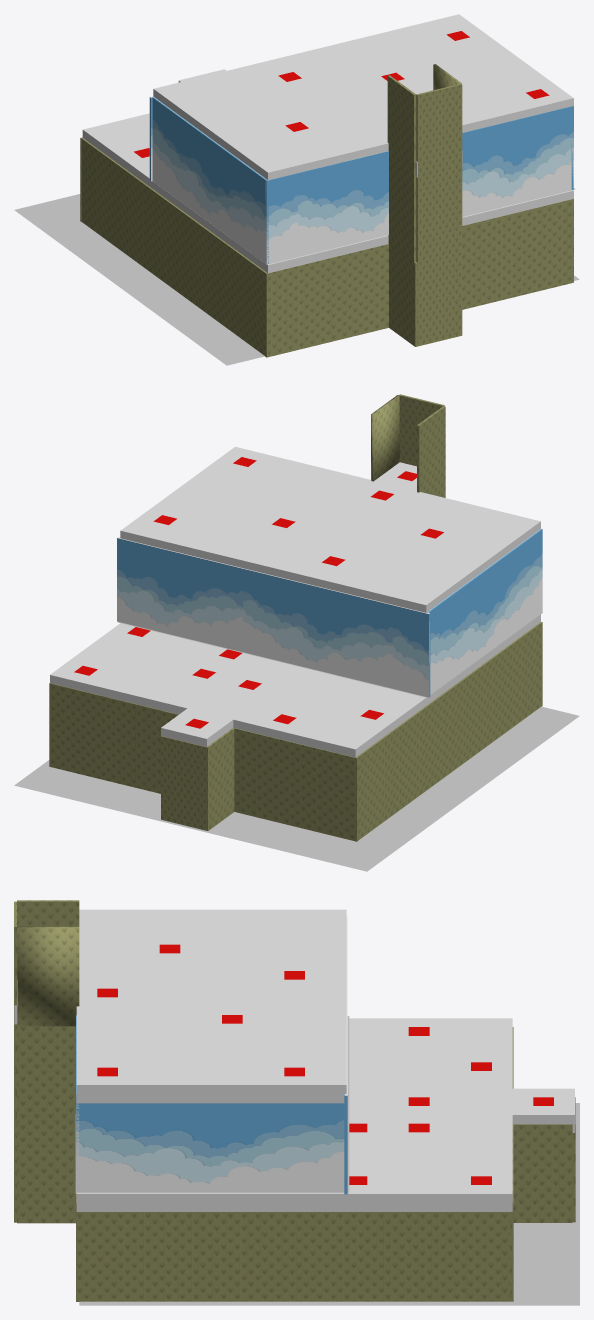
Rendered from labyrinthedecon - Copie.fbx.
3 renders of one model, top to bottom at view 1: azimuth 30°, elevation 25°; view 2: azimuth 150°, elevation 25°; view 3: azimuth 270°, elevation 25°, orthographic. The views are drawn at different scales.
Visible parts, largest first — view 1: Cube.013, Cube.016, Cube.060, Cube.014, Cube.017, Cube.061, Plane, Cube.030, Cube.027, Cube.063, Cube.029, Cube.062 (+1 smaller); view 2: Cube.019, Cube.013, Plane, Cube.035, Cube.014, Cube.040, Cube.038, Cube.034, Cube.029, Cube.031, Cube.030; view 3: Cube.044, Cube.018, Plane, Cube.031, Cube.039, Cube.064, Cube.026, Cube.029, Plane.001, Cube.019, toitcub.504, toitcub.583 (+20 smaller).
Part boxes in pixels (left/top/right/bottom): Cube.013: left=82, top=138, right=268, bottom=357; Cube.016: left=265, top=151, right=388, bottom=264; Cube.060: left=266, top=244, right=388, bottom=357; Cube.014: left=152, top=97, right=268, bottom=264; Cube.017: left=462, top=106, right=573, bottom=216; Cube.061: left=462, top=199, right=571, bottom=309; Plane: left=14, top=194, right=579, bottom=365; Cube.030: left=416, top=83, right=462, bottom=178; Cube.027: left=416, top=168, right=462, bottom=262; Cube.063: left=417, top=252, right=462, bottom=346; Cube.029: left=387, top=75, right=416, bottom=178; Cube.062: left=389, top=244, right=417, bottom=346; Cube.019: left=117, top=537, right=430, bottom=697; Cube.013: left=357, top=622, right=542, bottom=840; Plane: left=14, top=706, right=579, bottom=871; Cube.035: left=234, top=728, right=358, bottom=841; Cube.014: left=426, top=529, right=542, bottom=694; Cube.040: left=49, top=683, right=178, bottom=793; Cube.038: left=161, top=736, right=205, bottom=830; Cube.034: left=205, top=728, right=234, bottom=830; Cube.029: left=417, top=406, right=445, bottom=495; Cube.031: left=371, top=395, right=399, bottom=481; Cube.030: left=399, top=394, right=444, bottom=466; Cube.044: left=76, top=1202, right=510, bottom=1301; Cube.018: left=76, top=1094, right=344, bottom=1192; Plane: left=79, top=1103, right=579, bottom=1305; Cube.031: left=17, top=926, right=79, bottom=1026; Cube.039: left=513, top=1124, right=572, bottom=1222; Cube.064: left=17, top=1124, right=75, bottom=1223; Cube.026: left=17, top=1025, right=75, bottom=1124; Cube.029: left=17, top=900, right=79, bottom=979; Plane.001: left=75, top=1016, right=349, bottom=1193; Cube.019: left=344, top=916, right=347, bottom=1194; toitcub.504: left=180, top=1076, right=201, bottom=1103; toitcub.583: left=263, top=1076, right=284, bottom=1103.
Bounding box in the file's own units: 6182 × 4200 × 7294.
